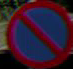No waiting: (3, 4, 67, 63)
